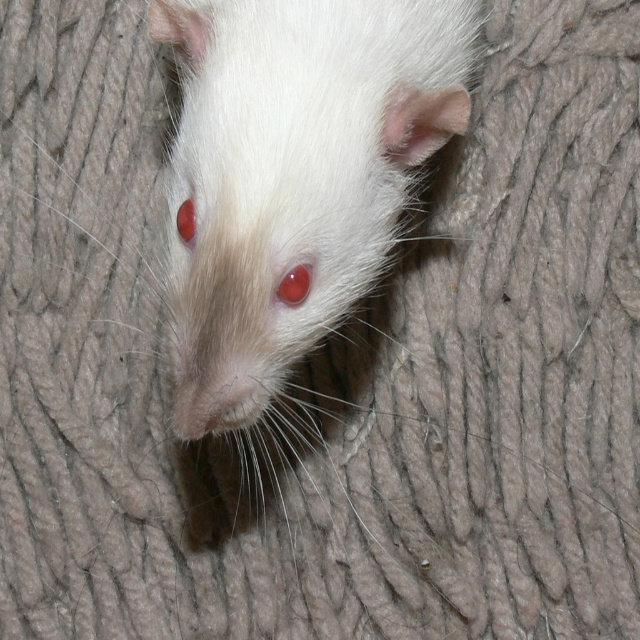Mouse: (17, 0, 506, 594)
